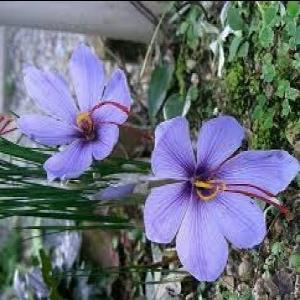Saffron: (145, 117, 300, 276), (16, 46, 130, 176)
